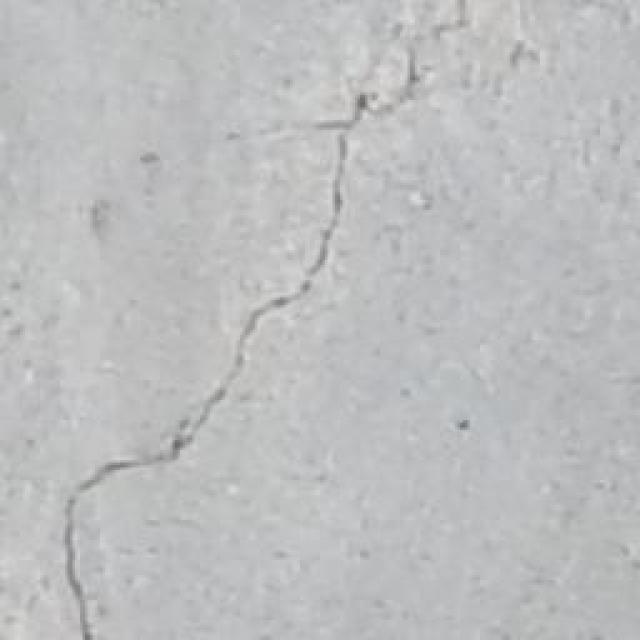concrete-crack: (60, 41, 420, 640)
